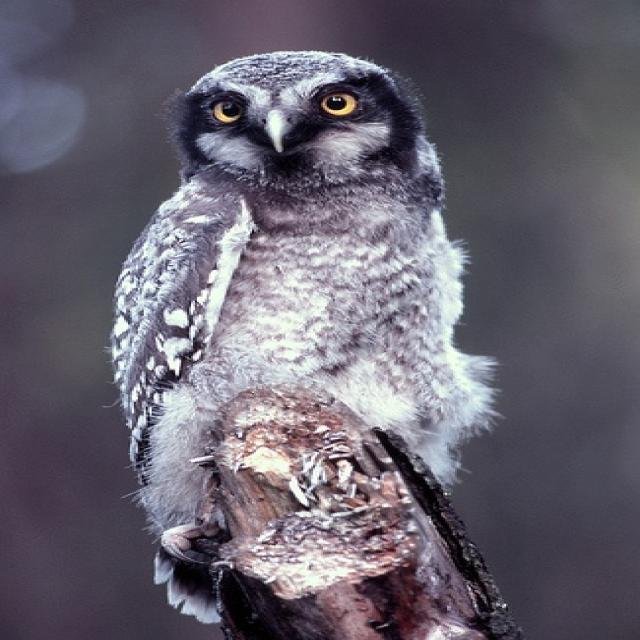bird: (110, 51, 498, 624)
